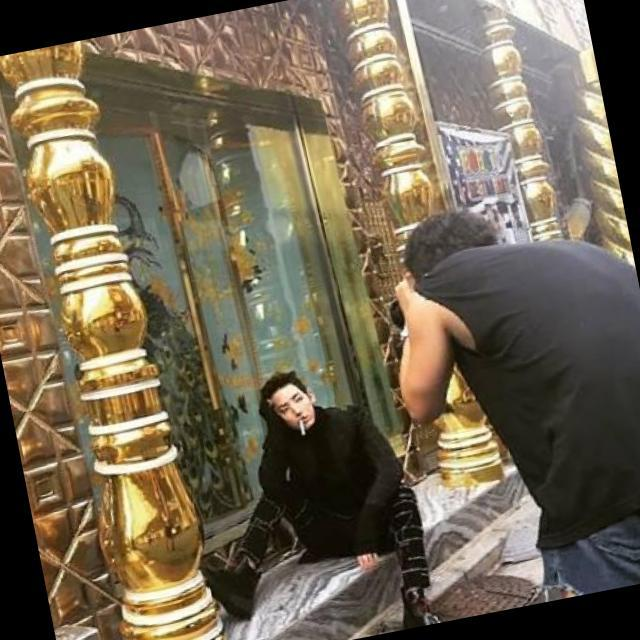cigarette: (296, 415, 312, 445)
